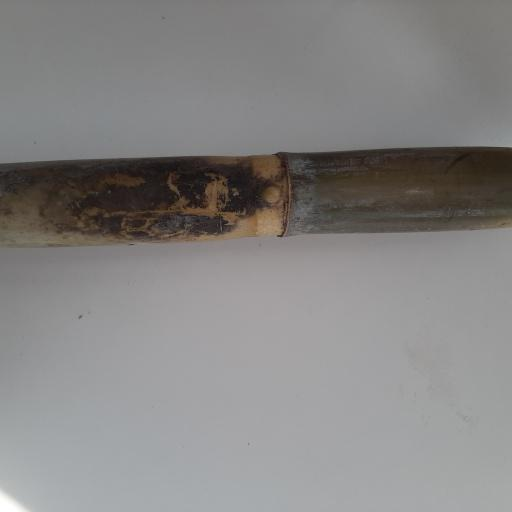Bud: (255, 181, 284, 205)
